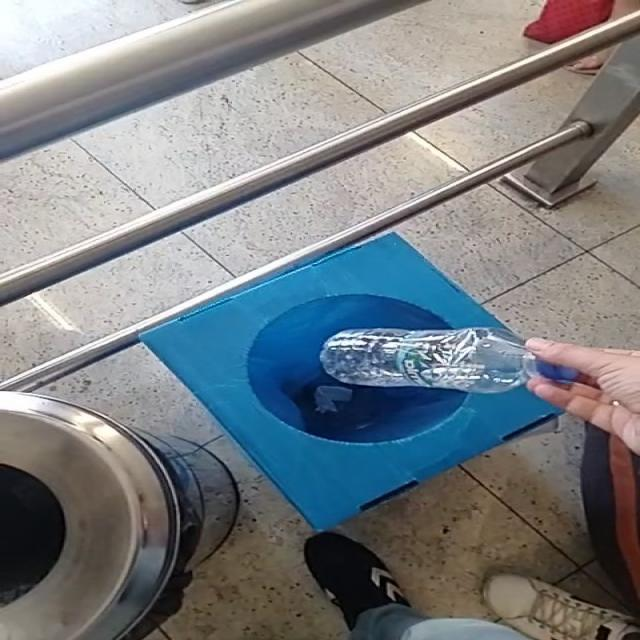Plastic: (320, 328, 577, 393)
